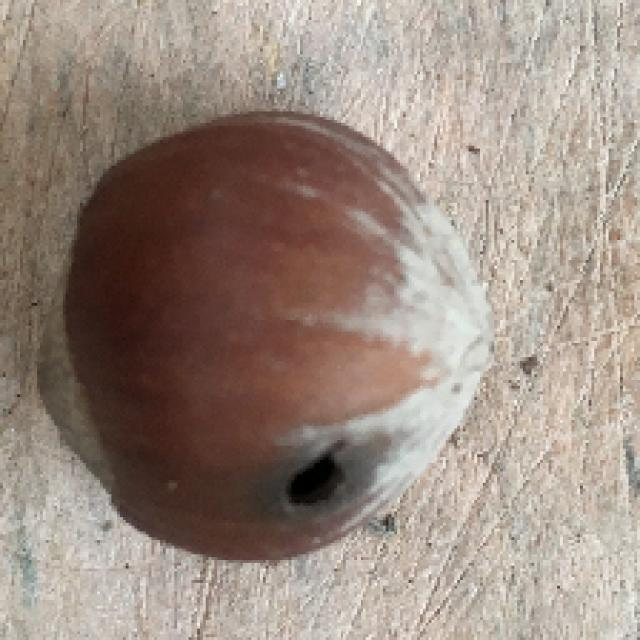damagedHazelnut: (37, 115, 495, 562)
